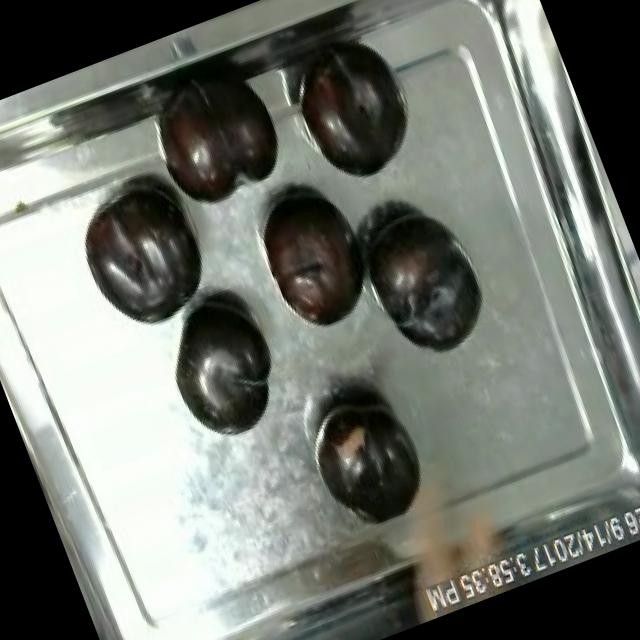Fruit: (63, 166, 227, 343), (346, 191, 504, 374), (240, 165, 398, 348), (135, 54, 304, 224), (146, 278, 302, 457), (278, 33, 432, 205), (298, 386, 438, 542)
